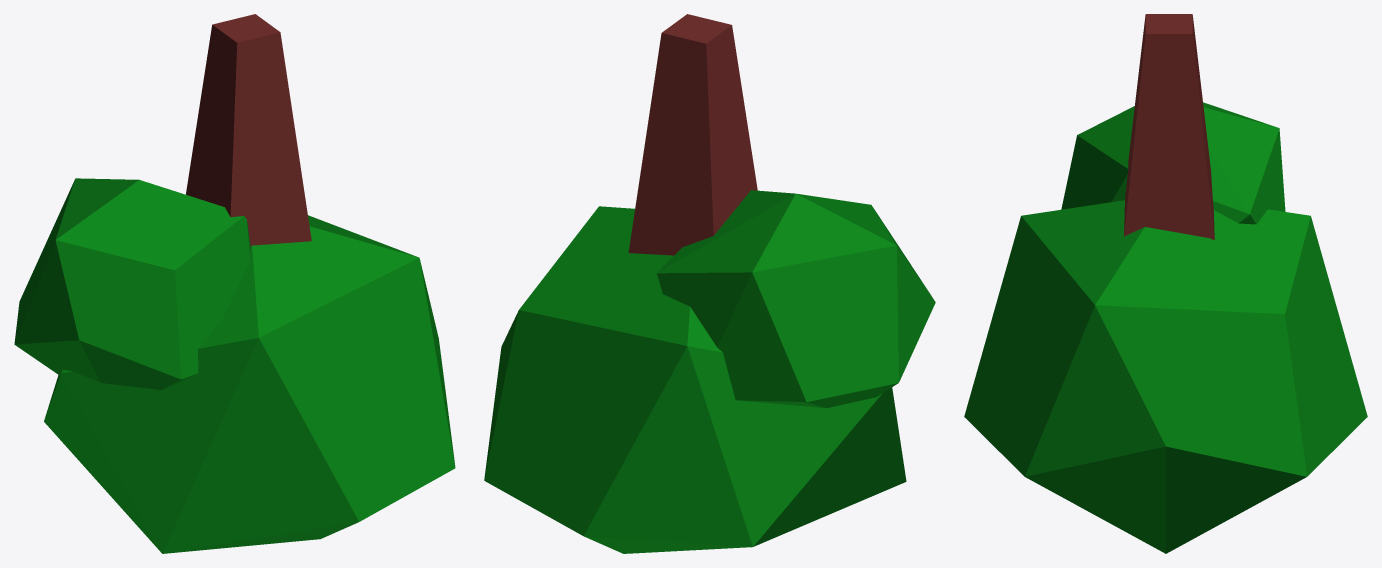
The model's file is tree.fbx.
3 renders of one model, left to right at view 1: azimuth 30°, elevation 25°; view 2: azimuth 150°, elevation 25°; view 3: azimuth 270°, elevation 25°, orthographic. The views are drawn at different scales.
Parts seen in each view (by area): view 1: Cube.002; view 2: Cube.002; view 3: Cube.002.
Boxes of the visible parts, left/top/right/bottom form: Cube.002: left=14, top=14, right=455, bottom=553; Cube.002: left=484, top=14, right=935, bottom=553; Cube.002: left=964, top=14, right=1367, bottom=553.
Bounding box in the file's own units: 289 × 360 × 265.
